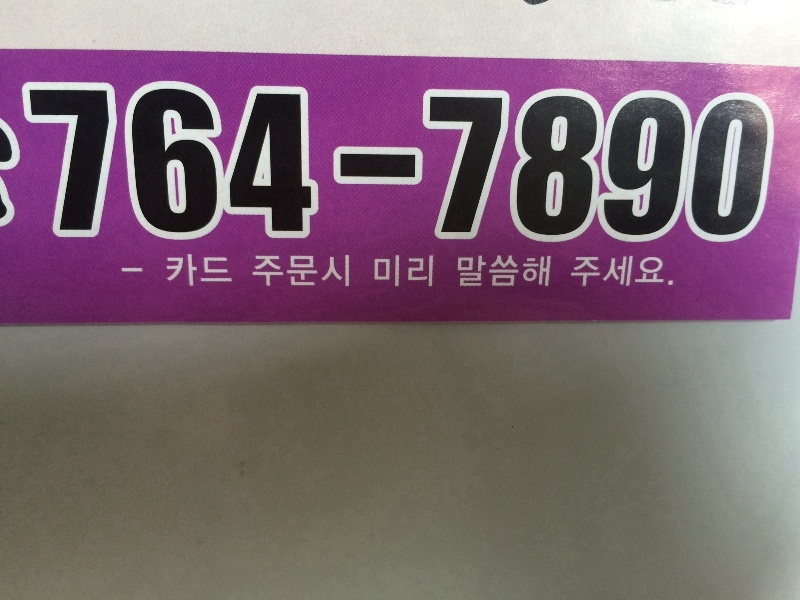text: (33, 78, 48, 251), (49, 78, 64, 251), (65, 78, 80, 251), (81, 78, 96, 251), (97, 78, 112, 251), (113, 78, 128, 251), (129, 78, 144, 251), (145, 78, 160, 251), (161, 78, 176, 251), (177, 78, 192, 251), (193, 78, 208, 251), (209, 78, 224, 251), (225, 78, 240, 251), (241, 78, 256, 251), (257, 78, 272, 251), (273, 78, 288, 251), (289, 78, 304, 251), (305, 78, 320, 251), (321, 78, 336, 251), (337, 78, 352, 251), (353, 78, 368, 251), (369, 78, 384, 251), (385, 78, 400, 251), (401, 78, 416, 251), (417, 78, 432, 251), (433, 78, 448, 251), (449, 78, 464, 251), (465, 78, 480, 251), (481, 78, 496, 251), (497, 78, 512, 251), (513, 78, 528, 251), (529, 78, 544, 251), (545, 78, 560, 251), (561, 78, 576, 251), (577, 78, 592, 251), (593, 78, 608, 251), (609, 78, 624, 251), (625, 78, 640, 251), (641, 78, 656, 251), (657, 78, 672, 251), (673, 78, 688, 251), (689, 78, 704, 251), (705, 78, 720, 251), (721, 78, 736, 251), (737, 78, 752, 251), (753, 78, 768, 251), (20, 78, 32, 251), (769, 78, 781, 251), (1, 118, 16, 232), (17, 118, 22, 232), (257, 253, 272, 289), (273, 253, 288, 289), (289, 253, 304, 289), (305, 253, 320, 289), (321, 253, 336, 289), (385, 254, 400, 289), (401, 254, 416, 289), (417, 254, 432, 289), (177, 253, 192, 287), (193, 253, 208, 287), (209, 253, 224, 287), (465, 255, 480, 289), (481, 255, 496, 289), (497, 255, 512, 289), (513, 255, 528, 289), (529, 255, 544, 289), (577, 254, 592, 288), (593, 254, 608, 288), (609, 254, 624, 288), (625, 254, 640, 288), (641, 254, 656, 288), (657, 254, 672, 288), (337, 253, 351, 289), (374, 254, 384, 289), (225, 253, 235, 287), (167, 253, 176, 287), (545, 255, 552, 289), (458, 255, 464, 289), (253, 253, 256, 289), (433, 254, 436, 289), (574, 254, 576, 288), (673, 254, 675, 288)
